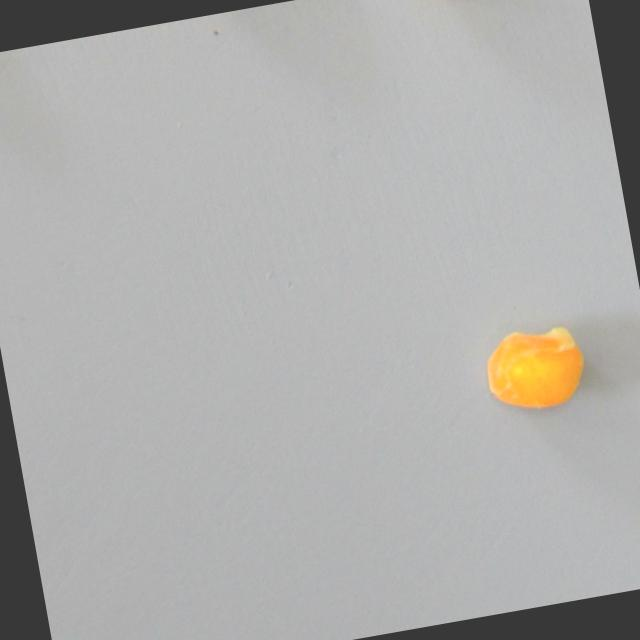pelicula: (479, 318, 593, 417)
